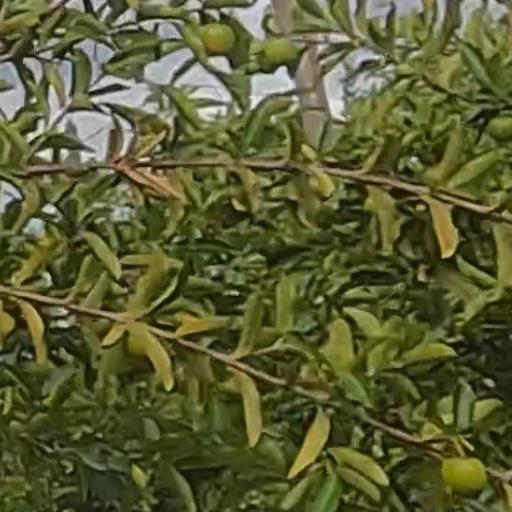acerola: (444, 458, 485, 499), (201, 23, 234, 52), (265, 39, 296, 61)
